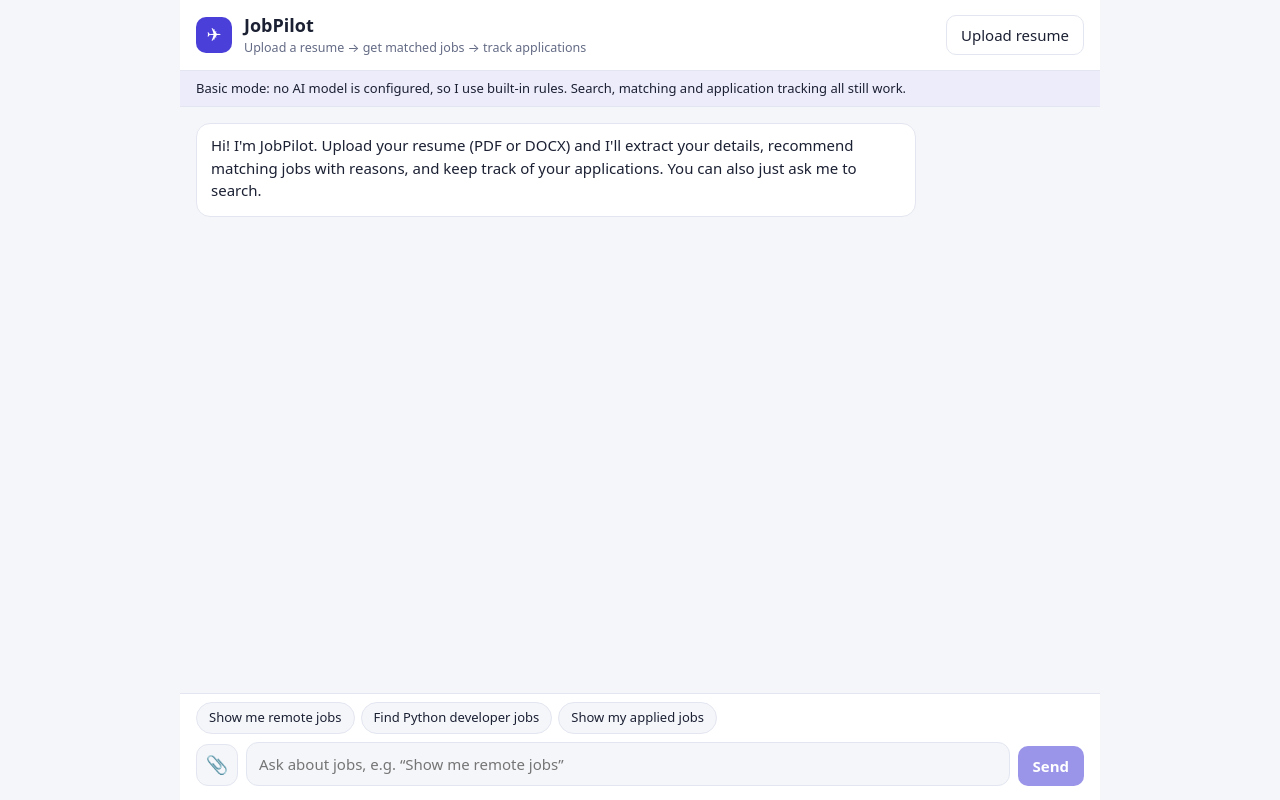
Test: chat UI › apply button sends an id-based request, then shows confirm buttons
In the text box named "Message": [628, 764] box [246,742,1010,786], type "jobs"
Then press Enter
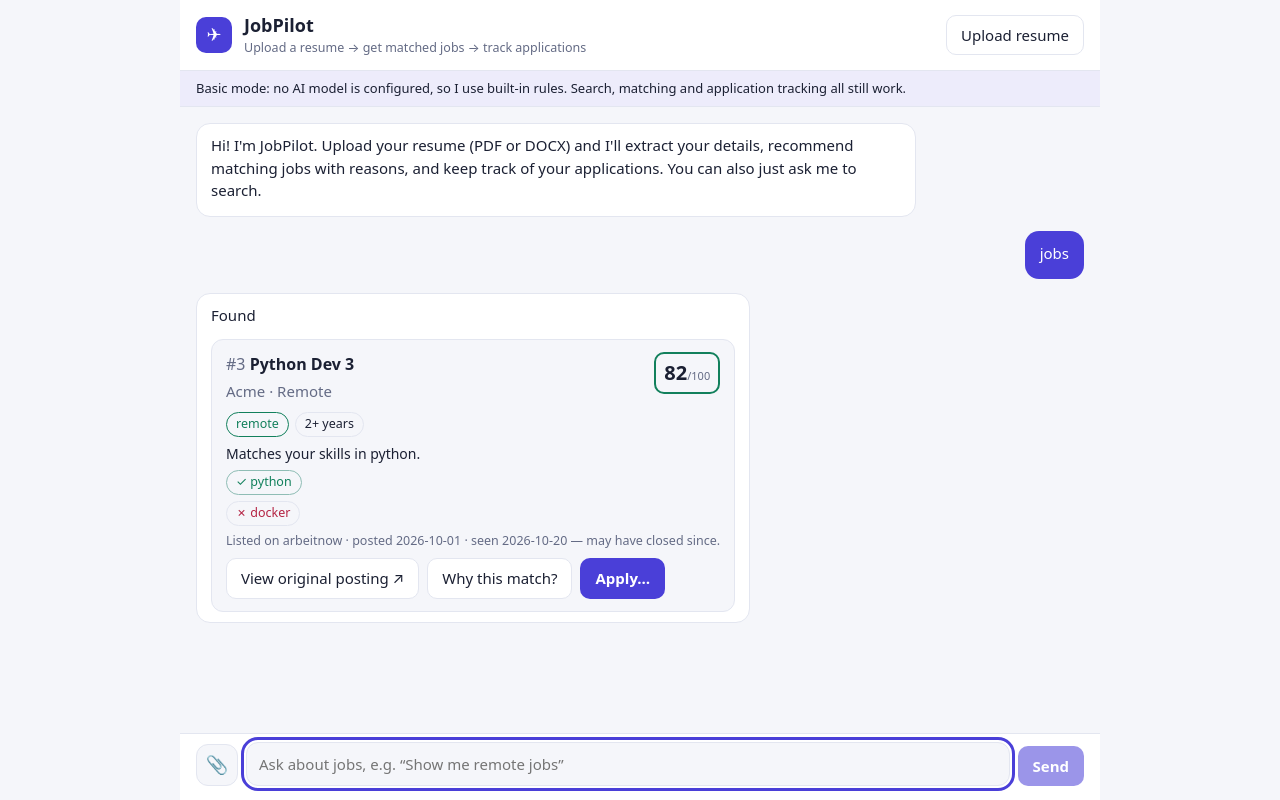
Click the button "Apply…": [623, 579] box [580,558,665,599]
(page scrolled)
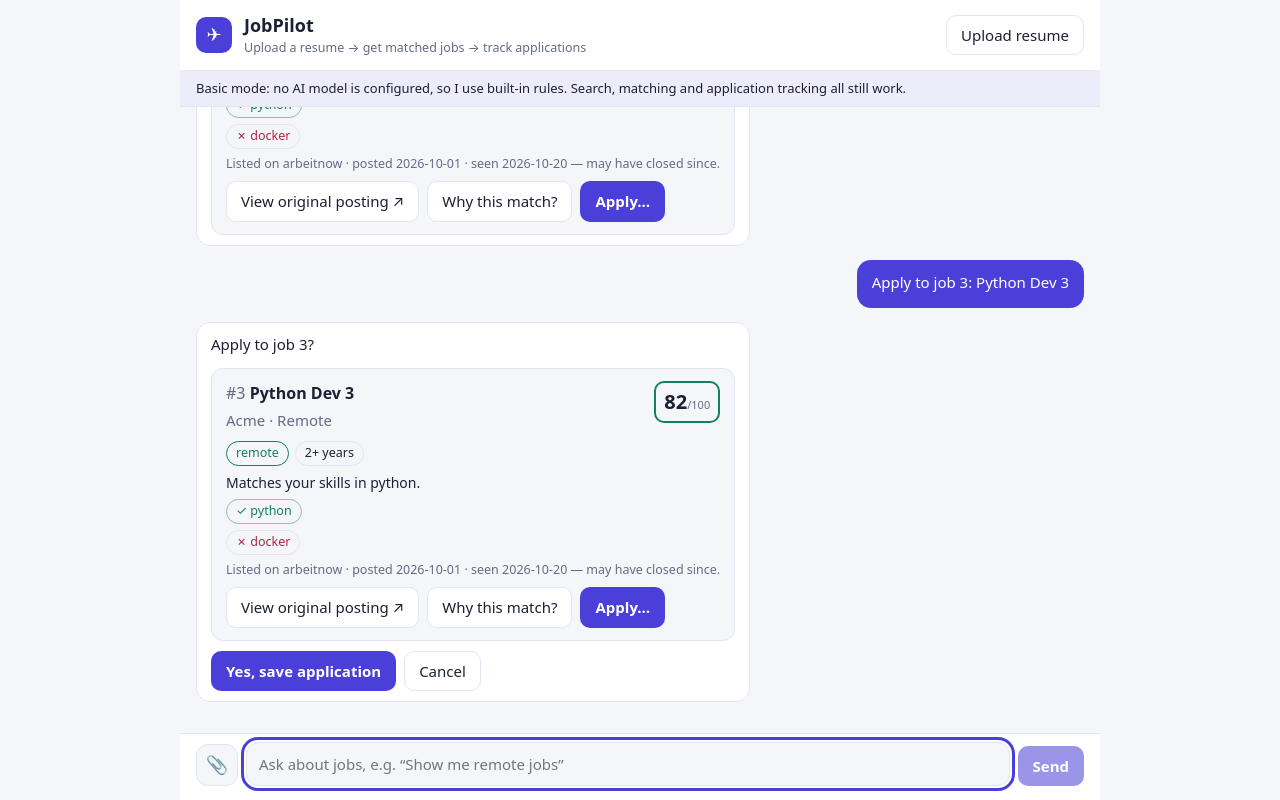
Expected: the button "Yes, save application" is shown, [211,651,396,691]
